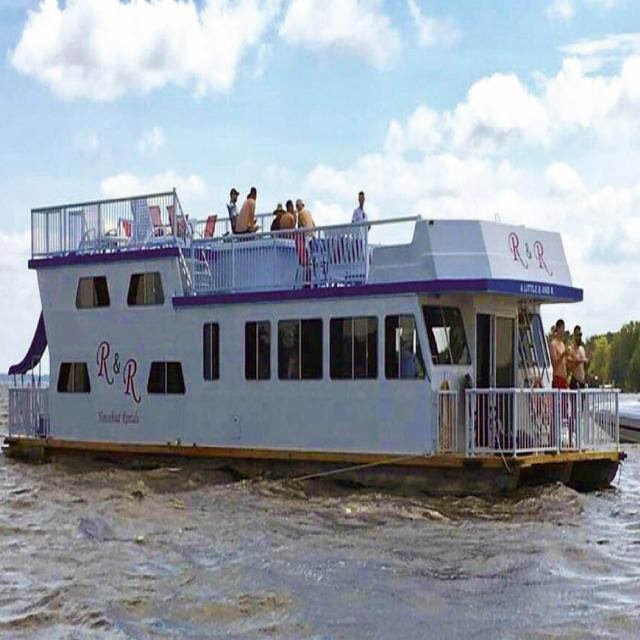houseboat: (21, 139, 625, 471)
